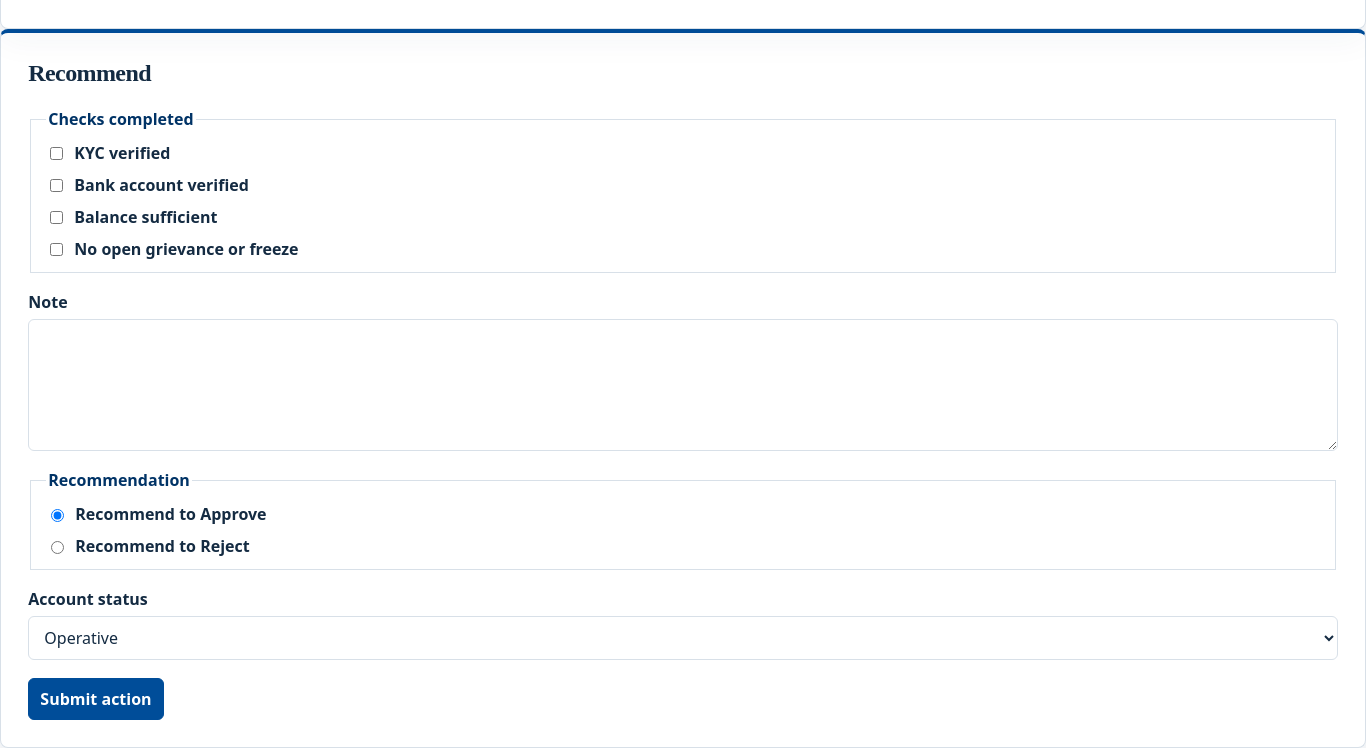
asks the officer recommending rejection for the reason, and shows what the member will read (P2.23b)
(page scrolled)
Step 1. Click the radio button labelled "Recommend to Reject" → {"x": 58, "y": 548}, box [51,541,64,554]
(page scrolled)
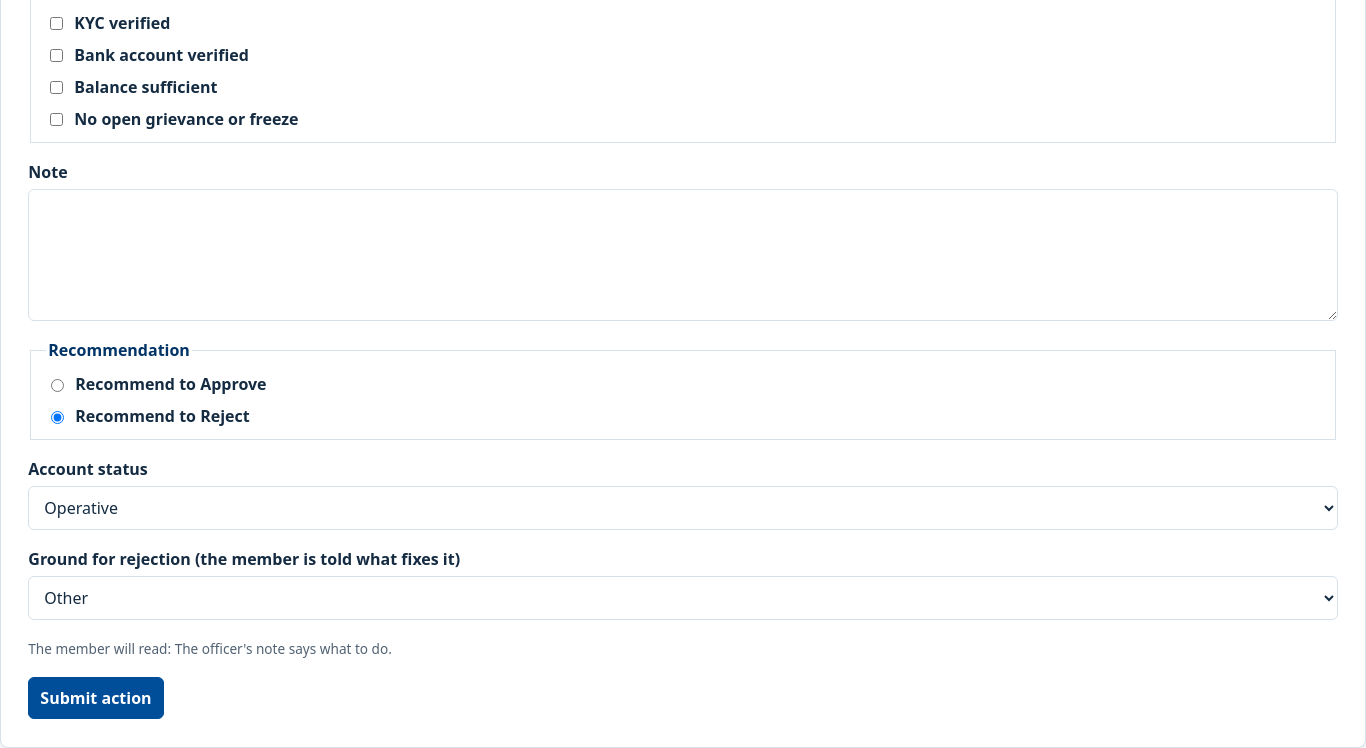
Step 2. Select "The bank account does not match the records" in the dropdown labelled "Ground for rejection (the member is told what fixes it)" → {"x": 683, "y": 598}, box [28,576,1338,620]
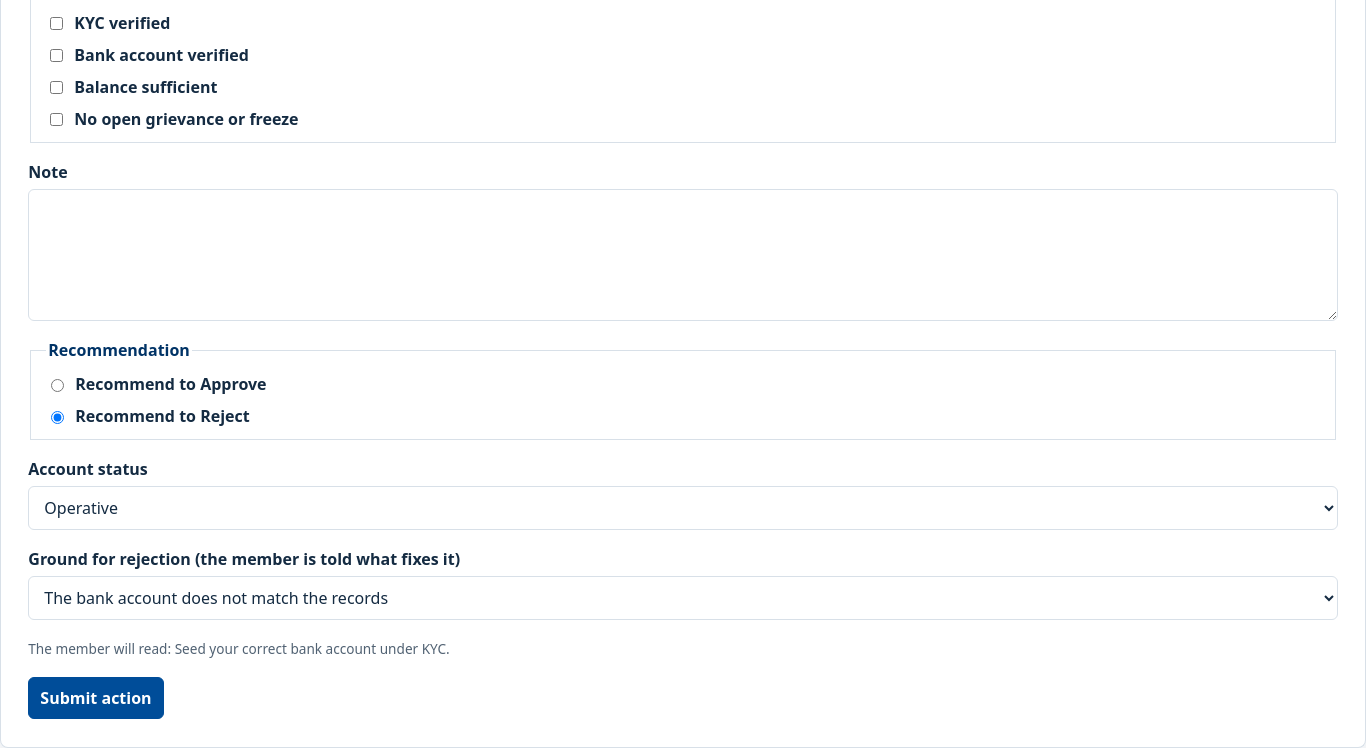
Expected: the text "The member will read: Seed your correct bank account under KYC." is shown, [28,639,450,658]
